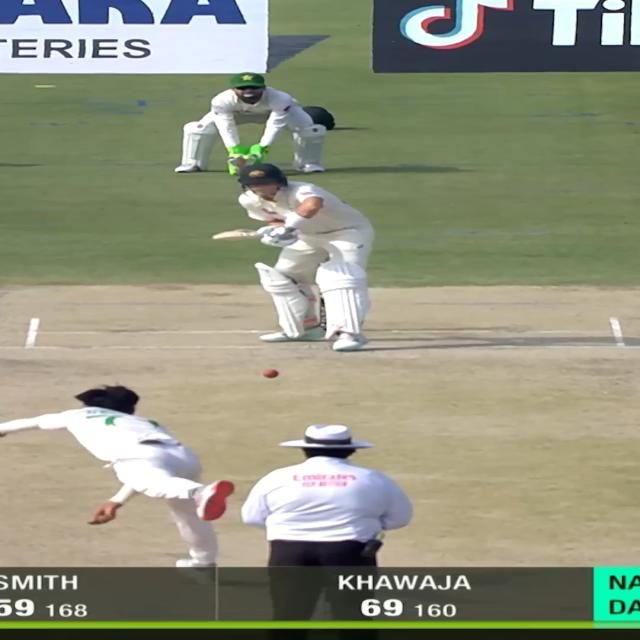Cricket ball: (261, 368, 281, 379)
